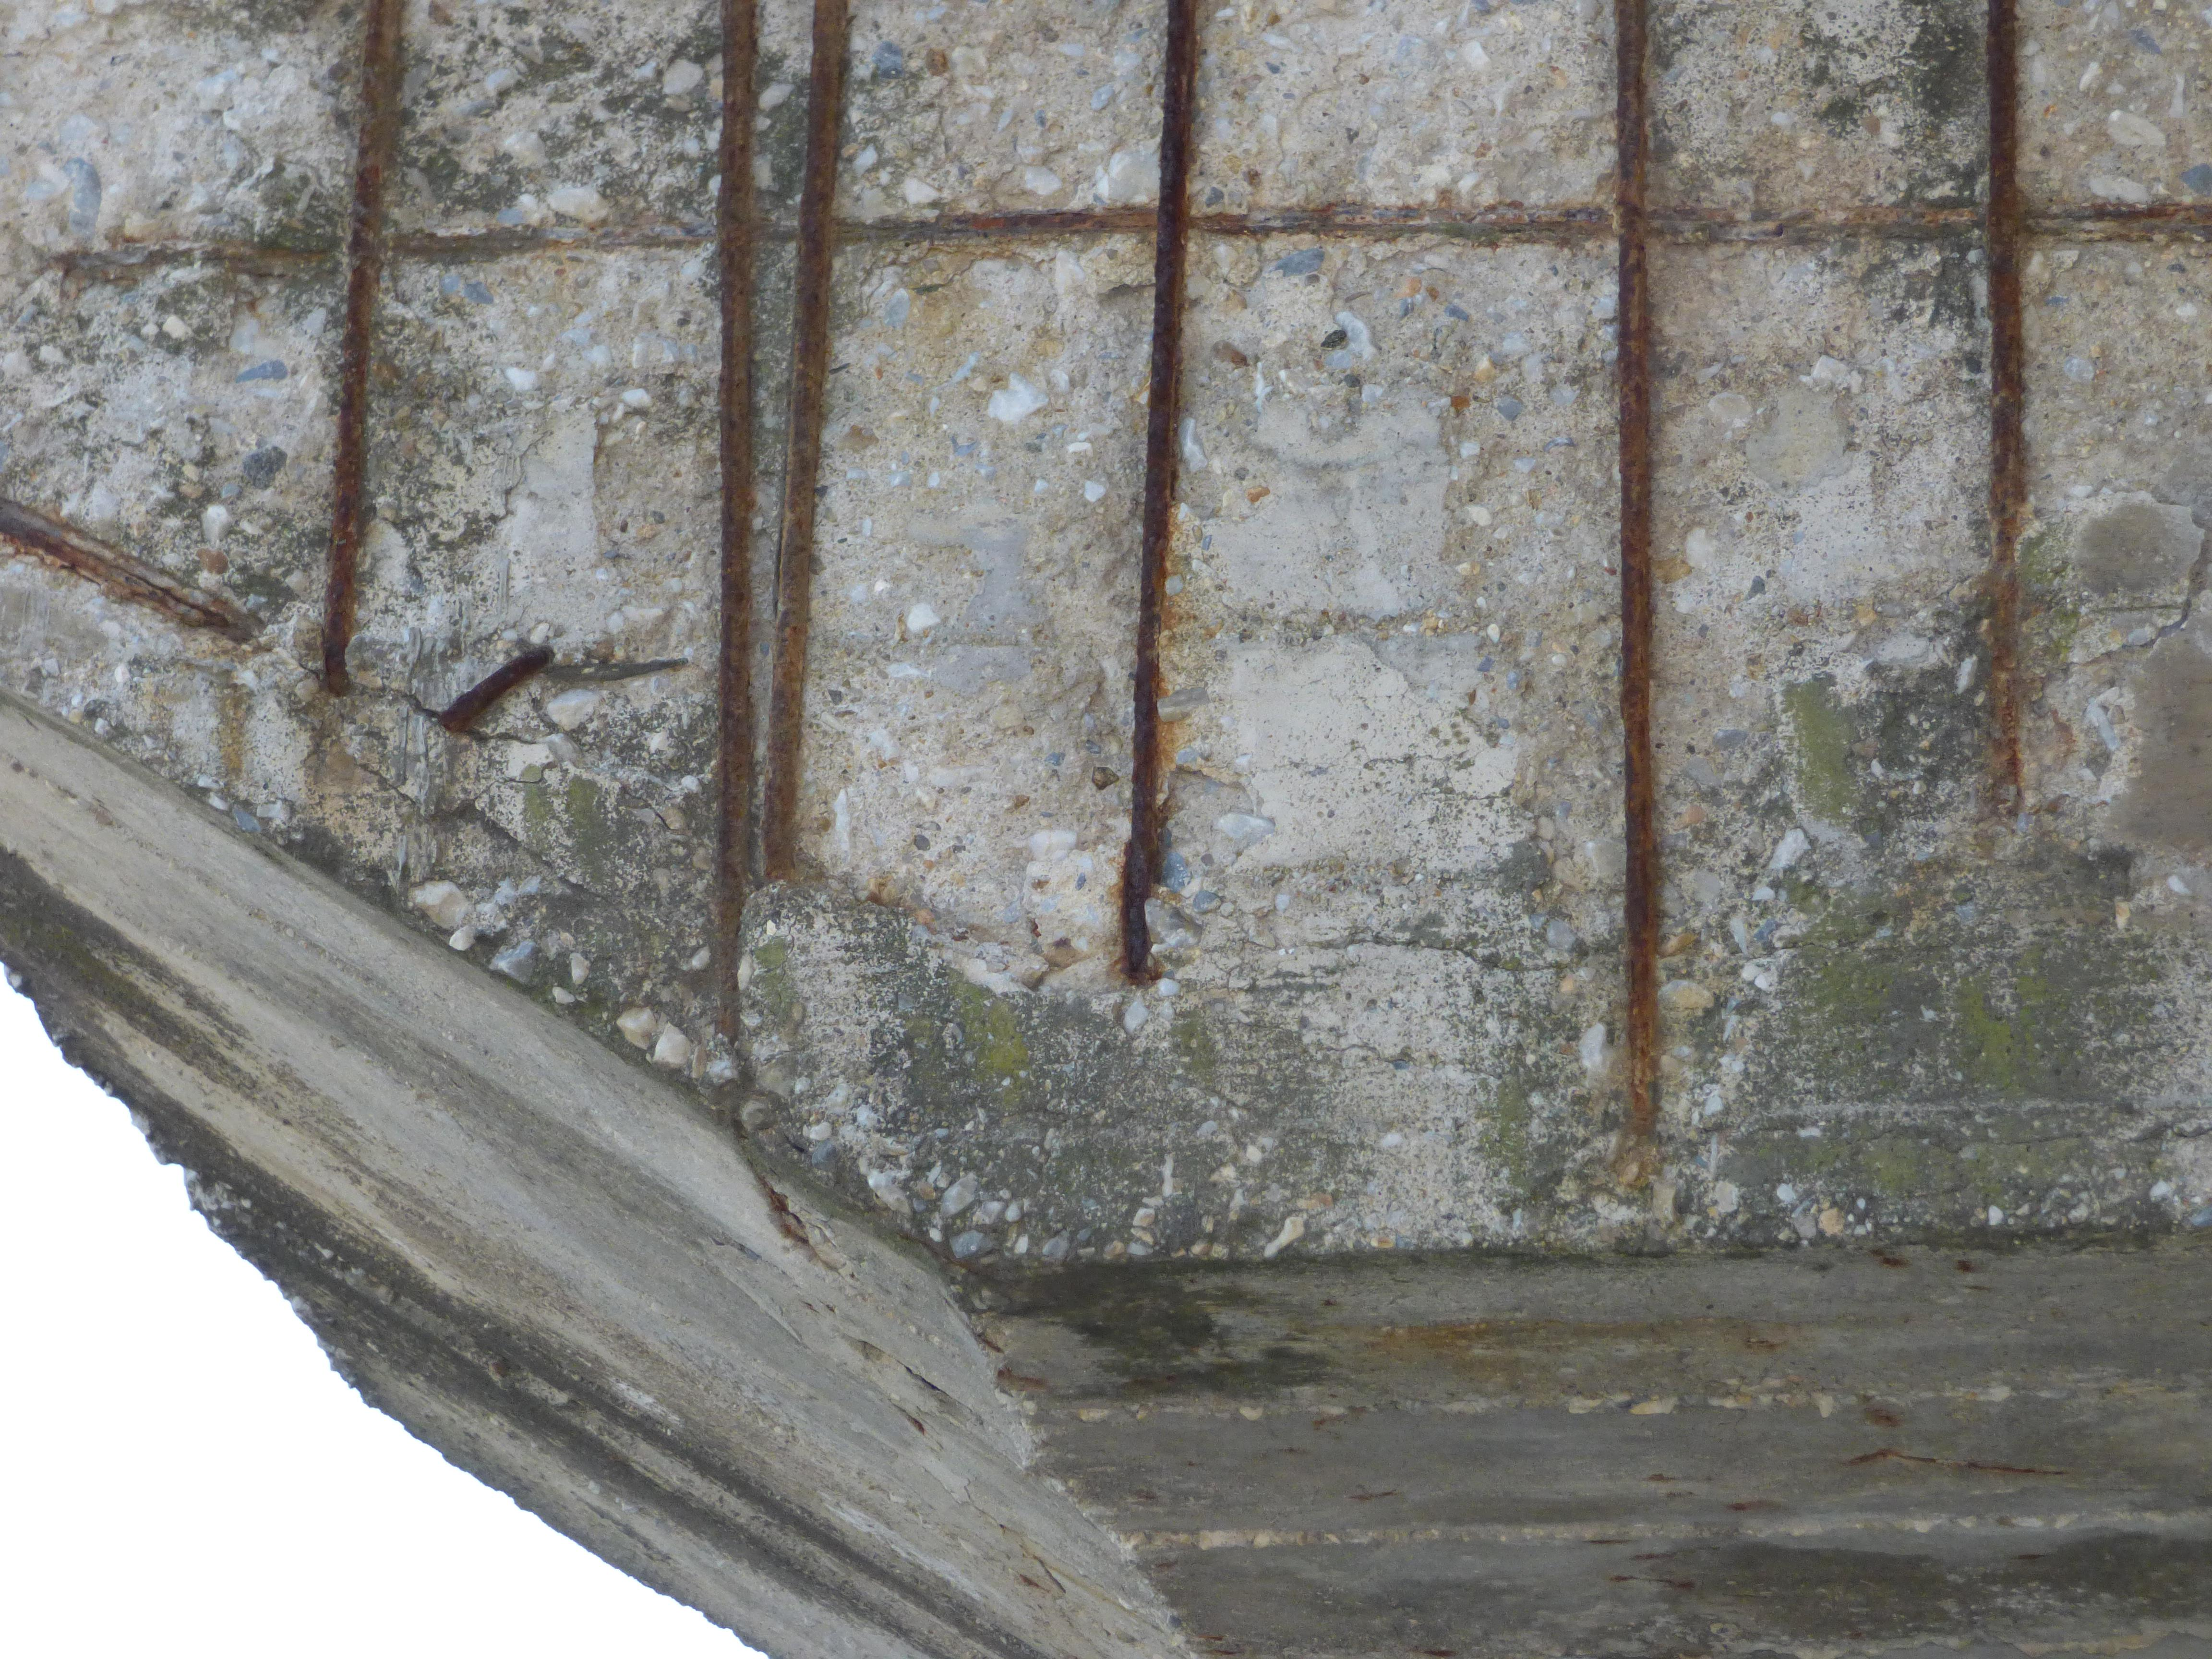rebar: (54, 207, 2212, 270), (1122, 0, 1202, 979), (761, 0, 846, 884), (320, 0, 408, 695), (1615, 0, 1656, 1129), (711, 0, 752, 1037), (2, 495, 251, 659), (1982, 2, 2024, 809), (439, 645, 552, 742), (1895, 1453, 2069, 1480), (1615, 1574, 1696, 1591), (1844, 1450, 1892, 1467), (1874, 1248, 1911, 1267), (1592, 1537, 1632, 1546)
separation: (2047, 483, 2212, 664), (887, 1452, 1069, 1600)
spall: (2, 0, 2212, 1248), (711, 1243, 974, 1439), (737, 1124, 866, 1295)
voids and pits: (1014, 1363, 2182, 1427)
